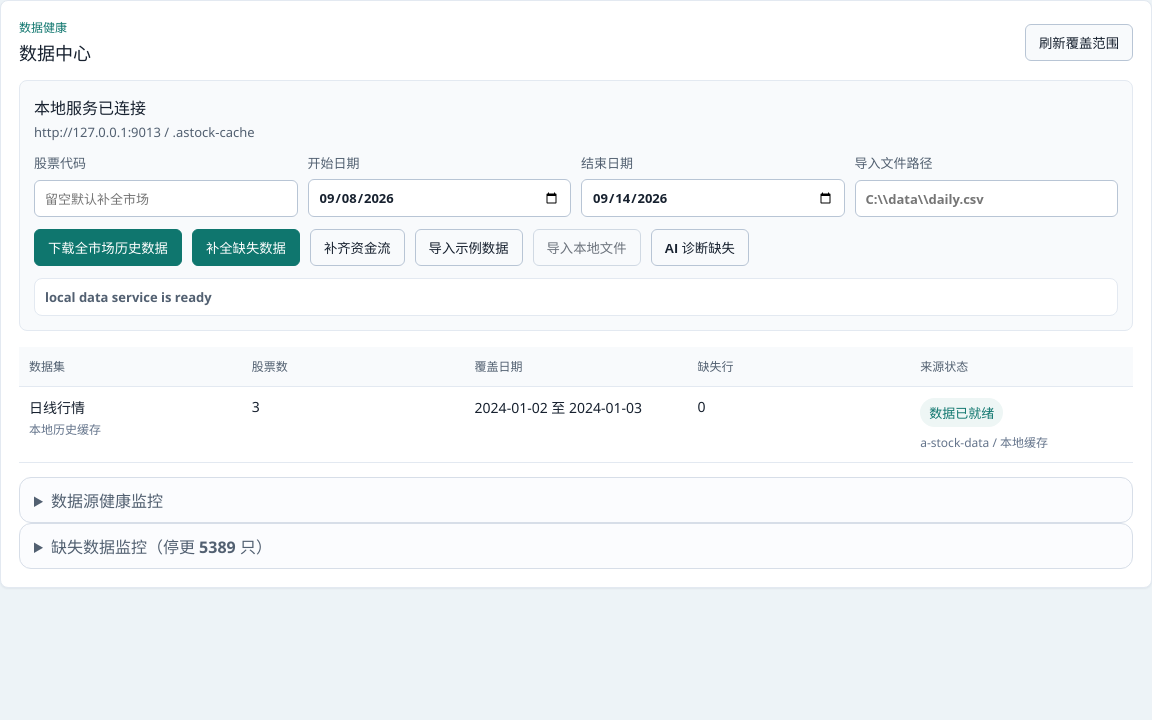
DataCenter lifecycle badges › runs the AI coverage diagnosis on demand and shows the one-line result
Expected: the text "http://127.0.0.1:9013 / .astock-cache" is shown, [34,123,254,141]
Click the button "AI 诊断缺失".
click(700, 248)  # box [650,229,749,266]
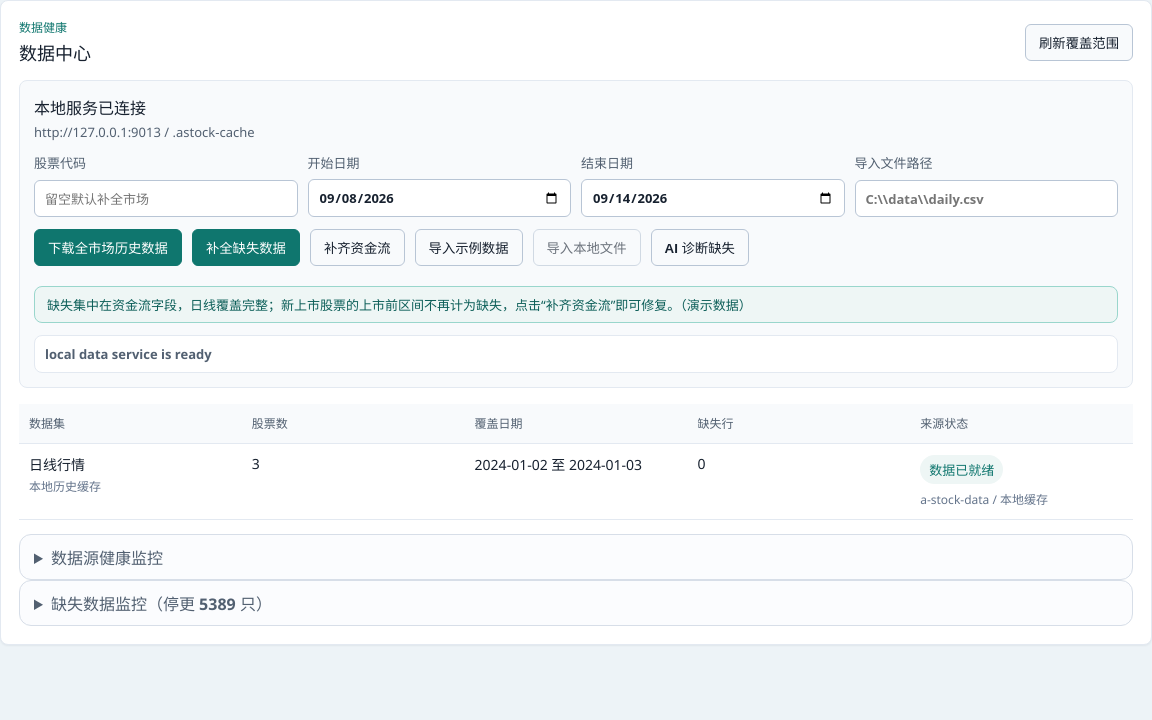
Now the text named "AI 覆盖诊断" shows "补齐资金流", box [47,296,752,314]
